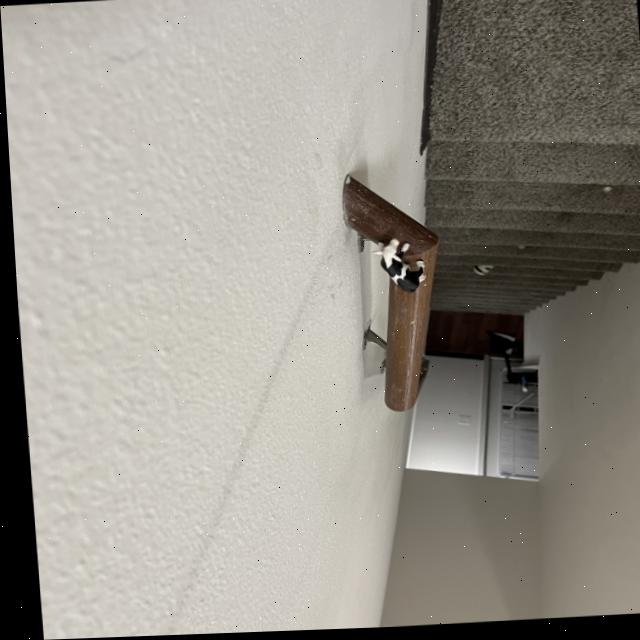cow: (365, 232, 430, 301)
